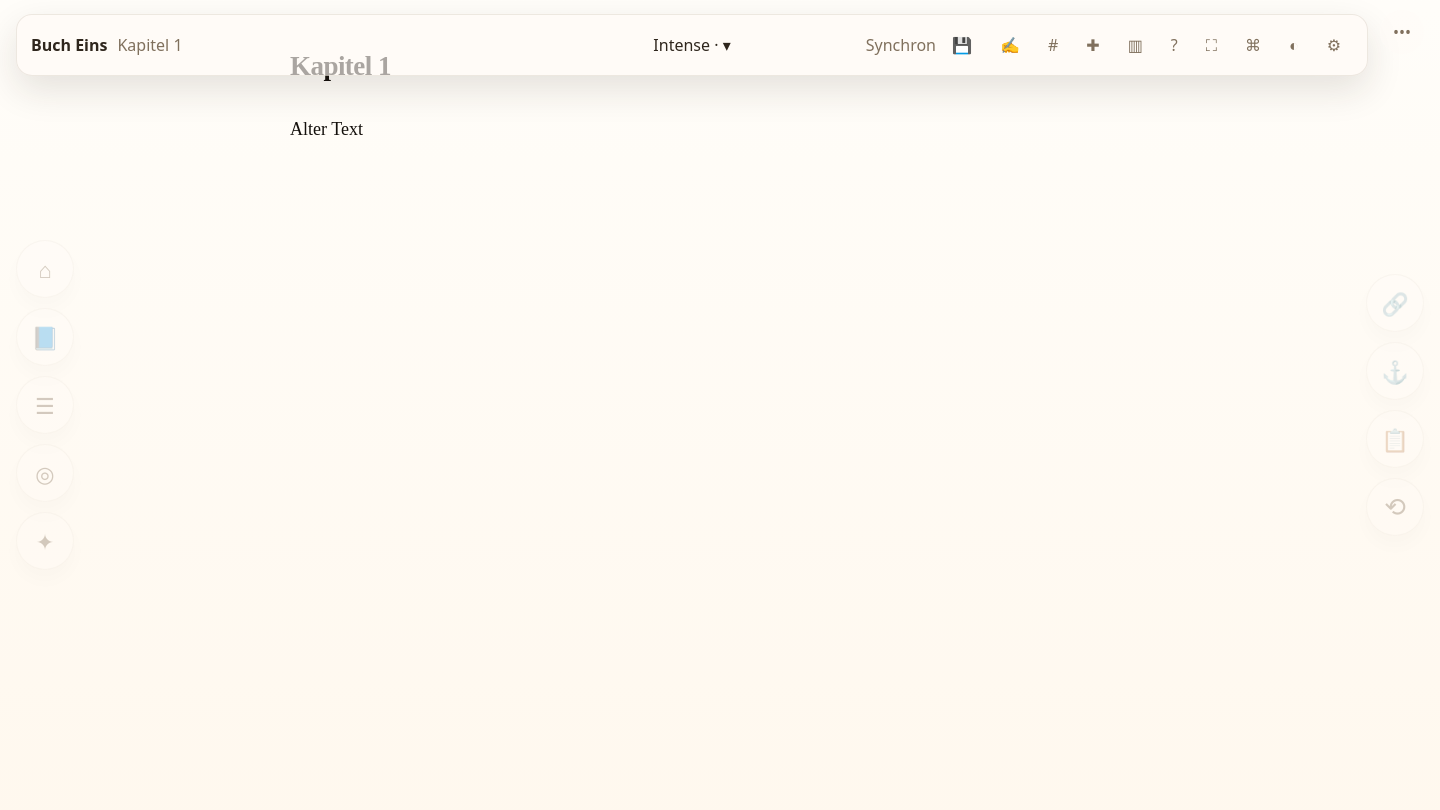
Test: App editor smoke test › opens the Kanban workspace from the keyboard-accessible controls and closes it with Escape
Click the button named "Kanban öffnen" at (1135, 45), box [1116,25,1155,65]
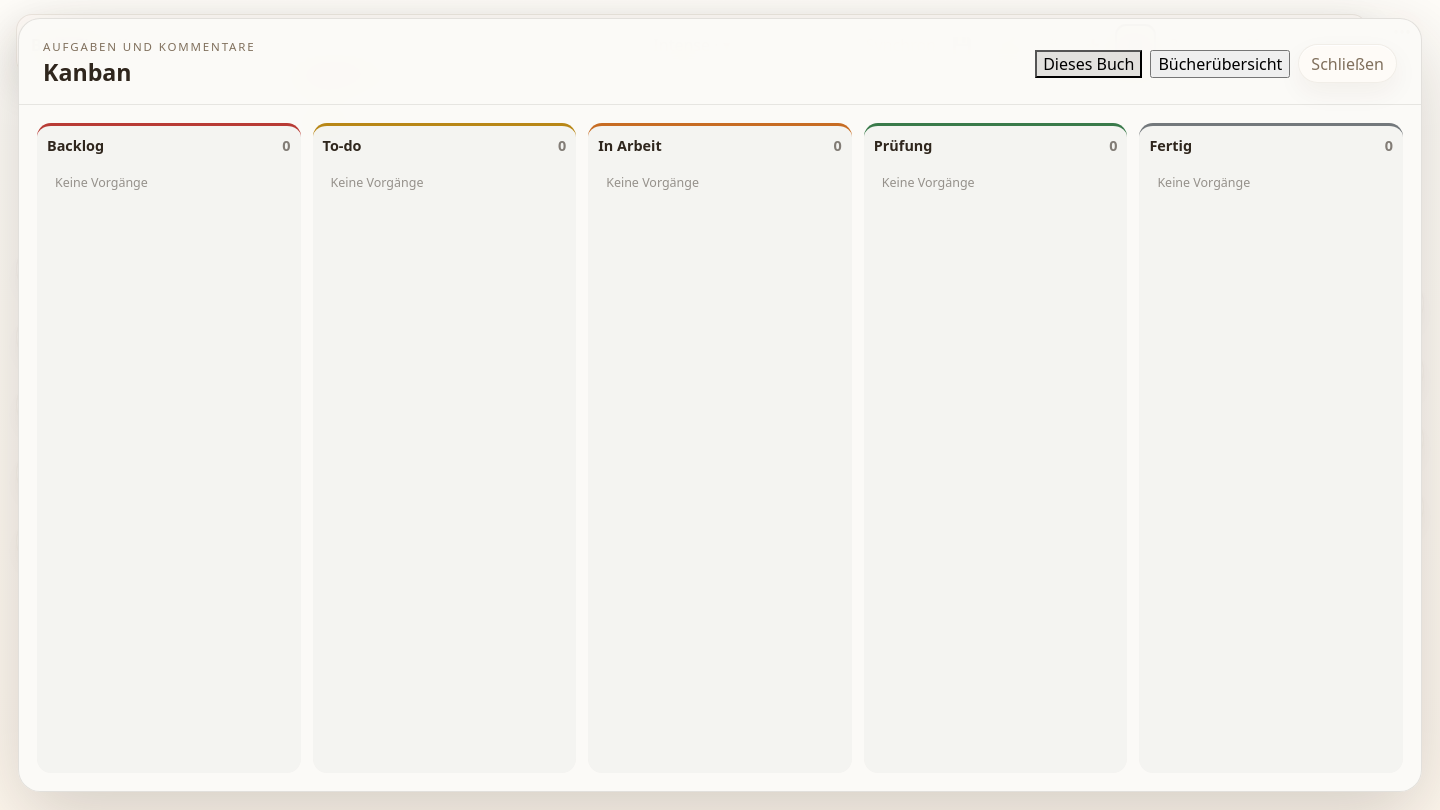
Check: the dialog named "Kanban-Arbeitsansicht" is shown
Press Escape
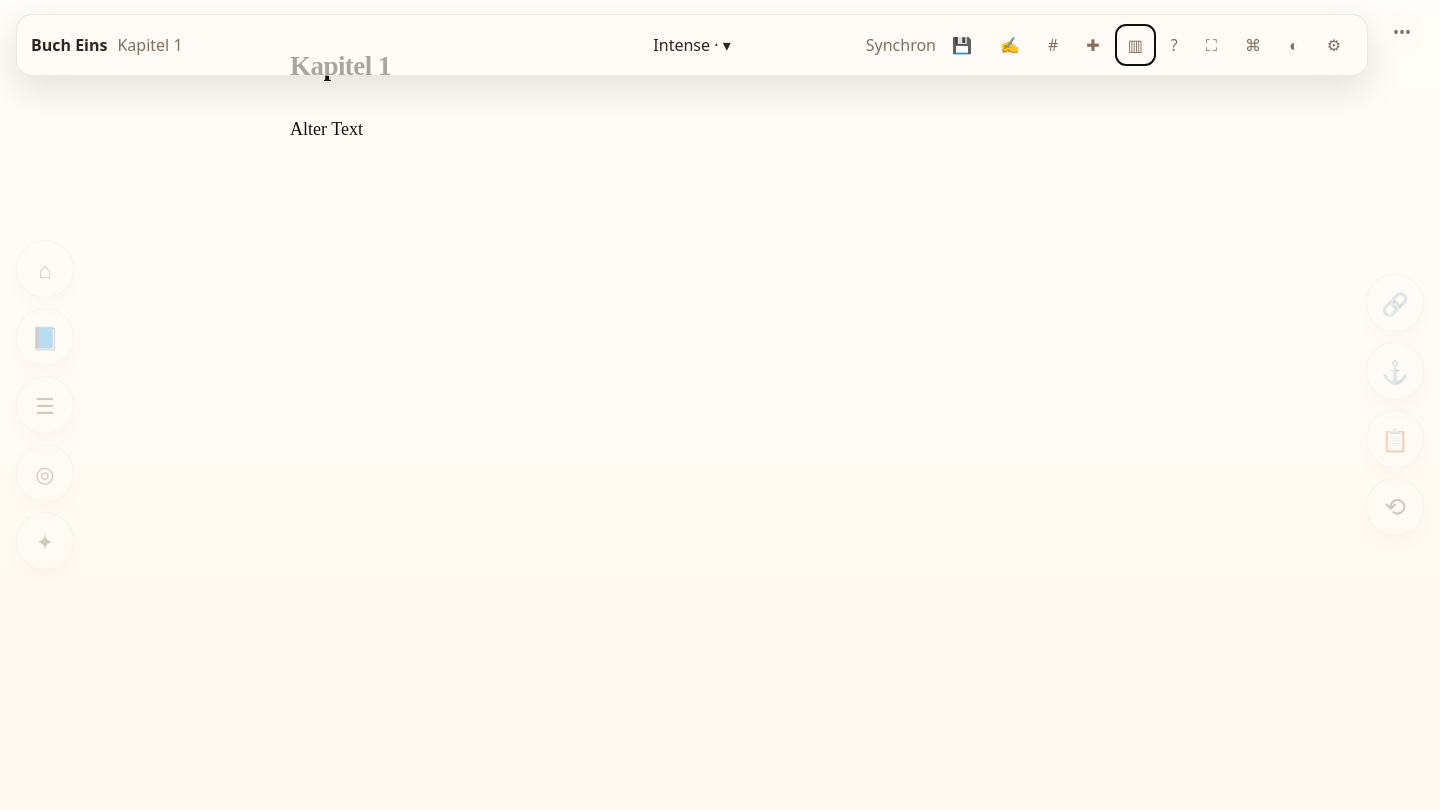
Check: the dialog "Kanban-Arbeitsansicht" is gone
